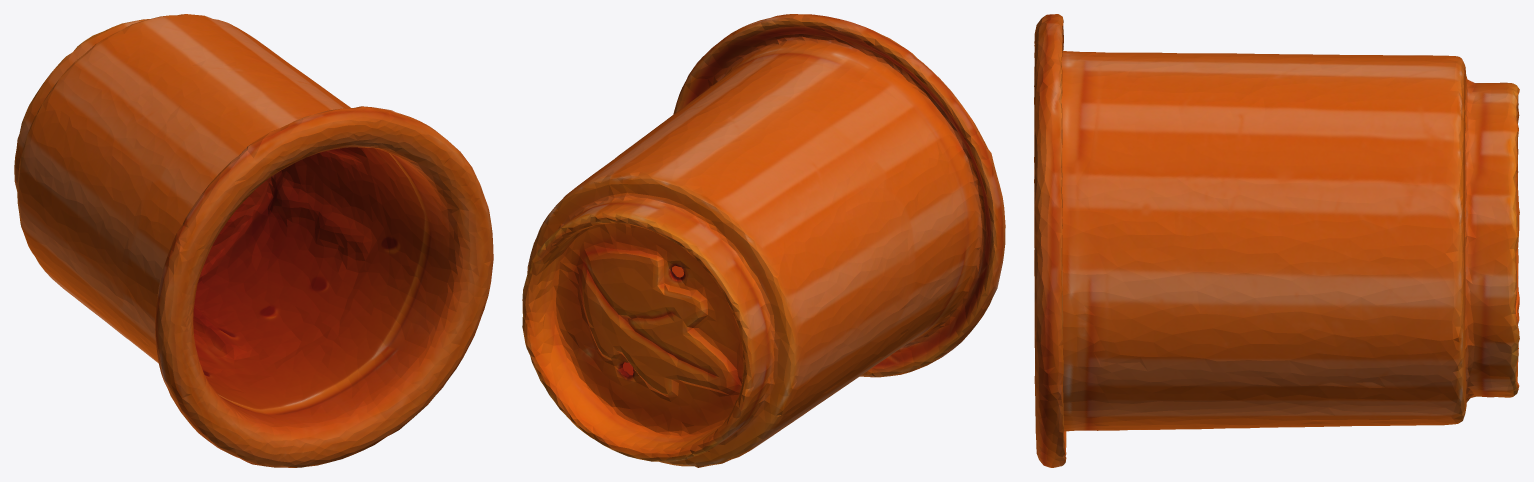
Rendered from a_cups.glb.
The picture shows the model from 3 angles, left to right: view 1: azimuth 30°, elevation 25°; view 2: azimuth 150°, elevation 25°; view 3: azimuth 270°, elevation 25°; orthographic projection. The views are drawn at different scales.
Parts seen in each view (by area): view 1: textured.obj; view 2: textured.obj; view 3: textured.obj.
Part boxes in pixels (box(x1,y1,x2,y2)): textured.obj: box(14, 14, 493, 467); textured.obj: box(522, 14, 1005, 467); textured.obj: box(1034, 14, 1519, 467).
Bounding box in the file's own units: 0.057 × 0.0571 × 0.0614.
1 material, 1 textured.
